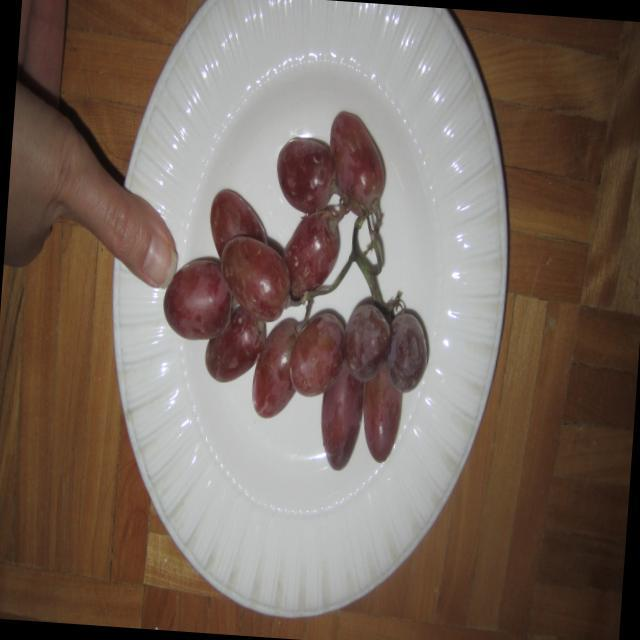Finger: (81, 168, 188, 288)
Grapes: (174, 90, 454, 479)
